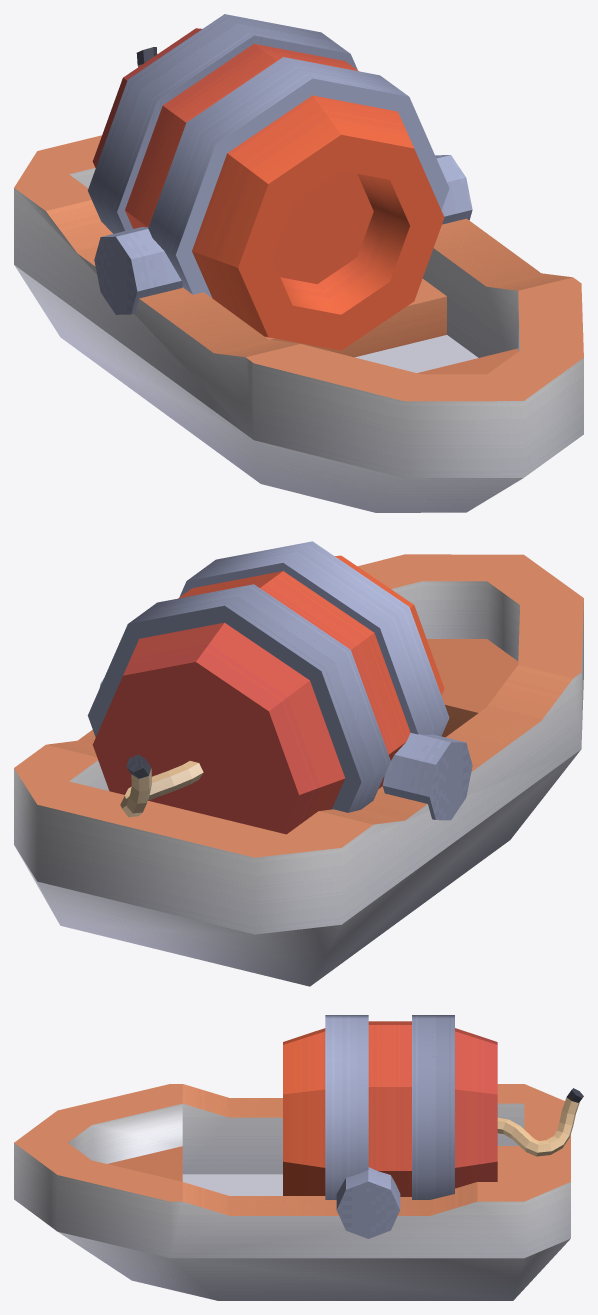
The model's file is ship_pirate_bomber.glb.
The picture shows the model from 3 angles, top to bottom: view 1: azimuth 30°, elevation 25°; view 2: azimuth 150°, elevation 25°; view 3: azimuth 270°, elevation 25°; orthographic projection. The views are drawn at different scales.
Visible parts, largest first — view 1: boat-row-large; view 2: boat-row-large; view 3: boat-row-large.
Part boxes in pixels (x1,y1,x2,y2): boat-row-large: (14, 14, 583, 512); boat-row-large: (14, 541, 583, 986); boat-row-large: (14, 1015, 583, 1300).
Bounding box in the file's own units: 1.46 × 1.34 × 2.92.
Materials: 1 (1 with a texture image).
